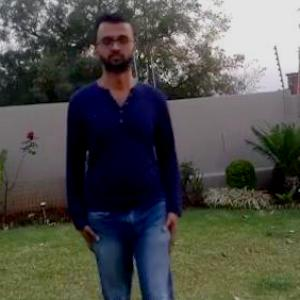follow: (66, 14, 185, 299)
